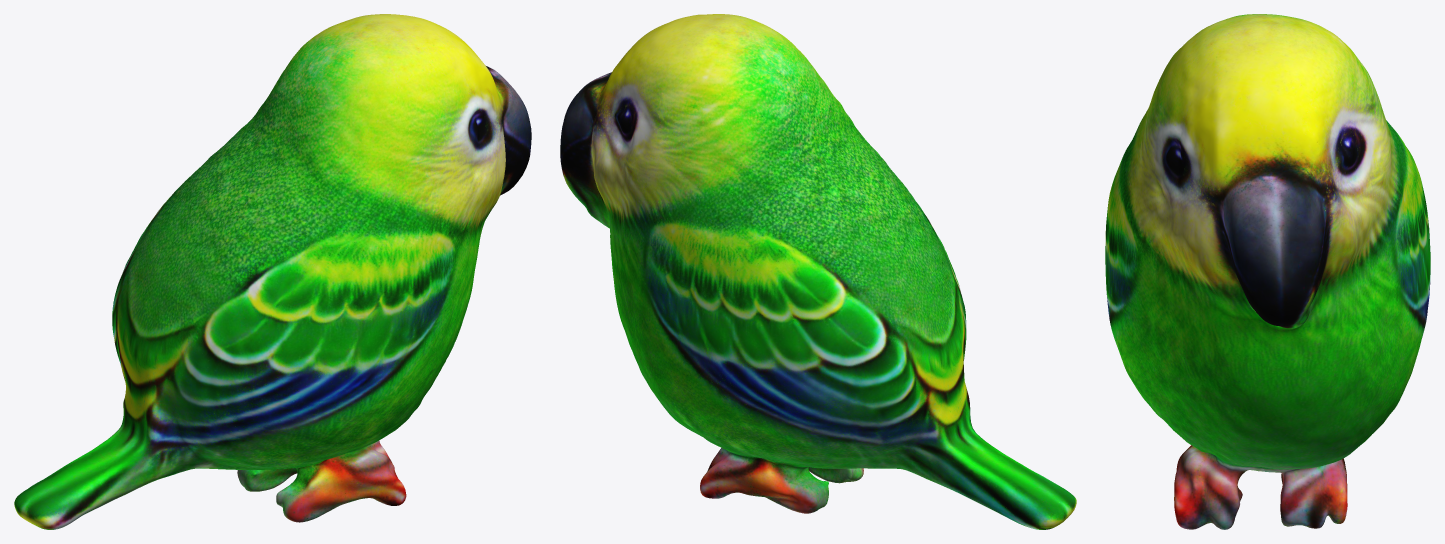
File: tori.glb
The picture shows the model from 3 angles, left to right: view 1: azimuth 30°, elevation 25°; view 2: azimuth 150°, elevation 25°; view 3: azimuth 270°, elevation 25°; orthographic projection. The views are drawn at different scales.
Parts seen in each view (by area): view 1: geometry_0; view 2: geometry_0; view 3: geometry_0.
Part boxes in pixels (x1=…): geometry_0: x1=14, y1=14, x2=531, y2=529; geometry_0: x1=560, y1=14, x2=1076, y2=529; geometry_0: x1=1105, y1=14, x2=1430, y2=529.
Size of the model in its own units: 0.4221 by 0.3622 by 0.2077.
1 material, 1 textured.
